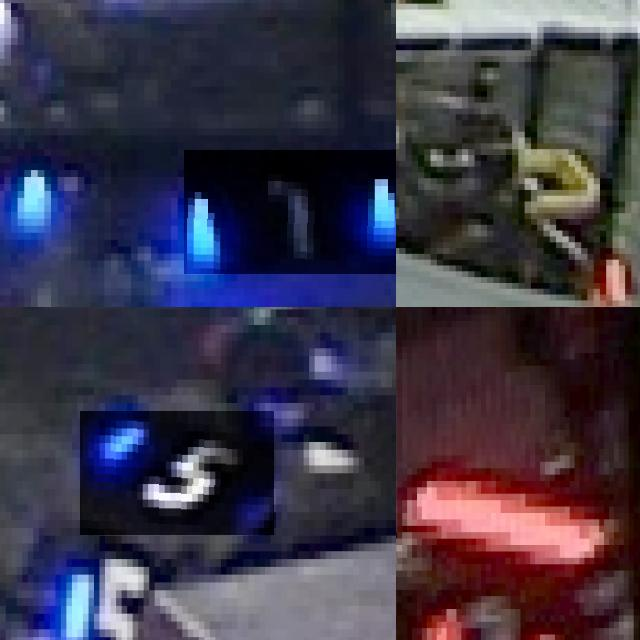B1: (184, 149, 396, 274)
B5: (80, 411, 274, 535), (44, 539, 176, 640)
R3: (422, 596, 560, 640)
